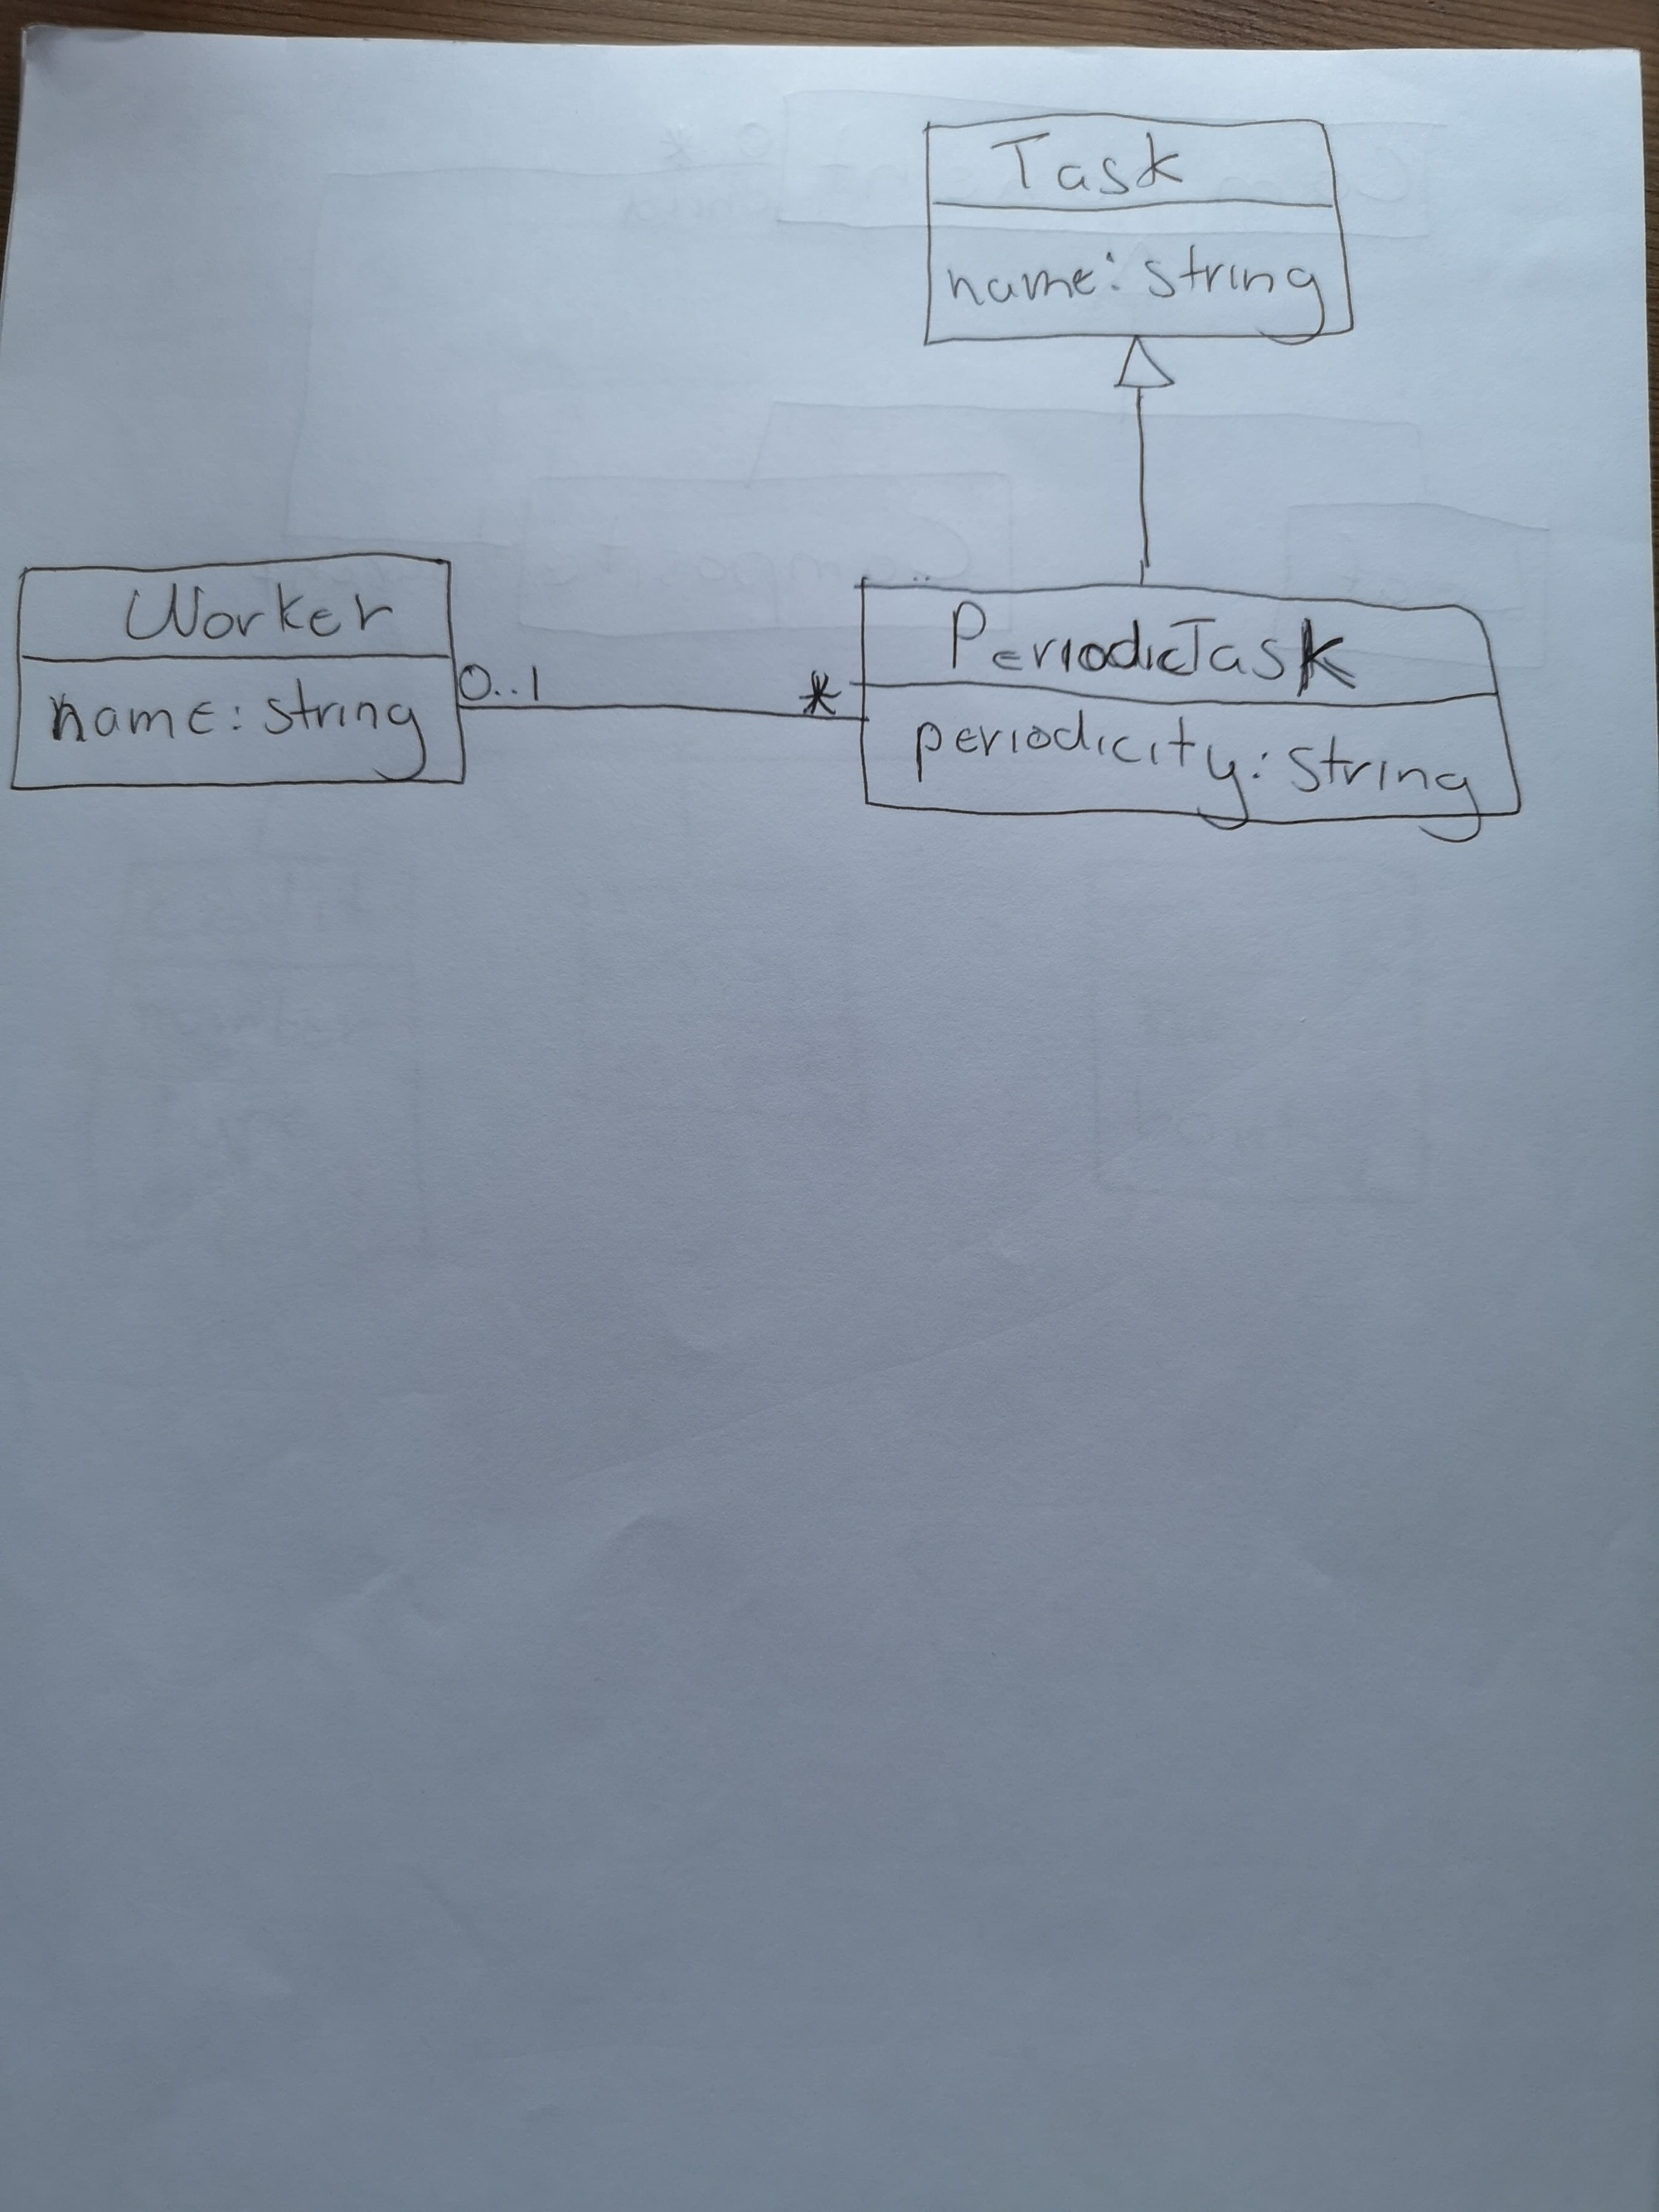association: (443, 649, 877, 732)
class attributes: (12, 548, 466, 800), (909, 107, 1366, 346)
inheritance: (1107, 324, 1177, 592)
simple class: (845, 576, 1531, 841)
